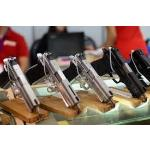Pistol: (23, 51, 82, 109), (92, 46, 150, 102), (64, 49, 116, 104), (1, 56, 42, 112)
